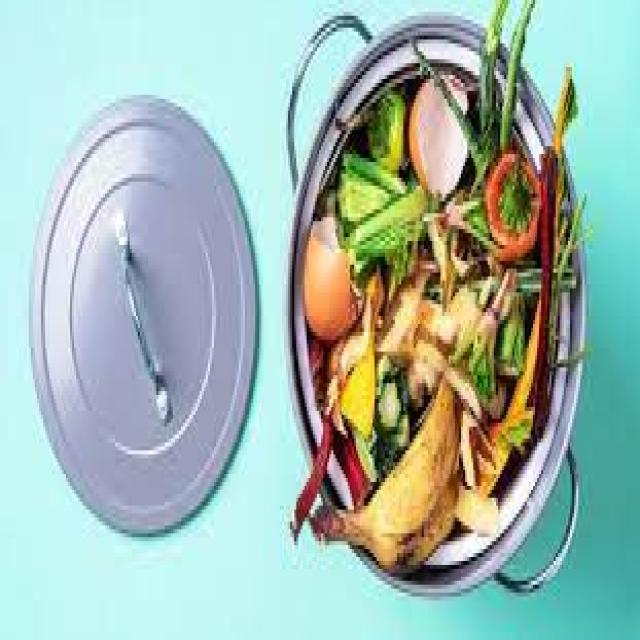Wet: (282, 2, 604, 606), (309, 356, 479, 578), (337, 147, 431, 270), (404, 72, 477, 210), (296, 217, 363, 338), (341, 345, 412, 451), (535, 137, 561, 395), (484, 148, 544, 257)
